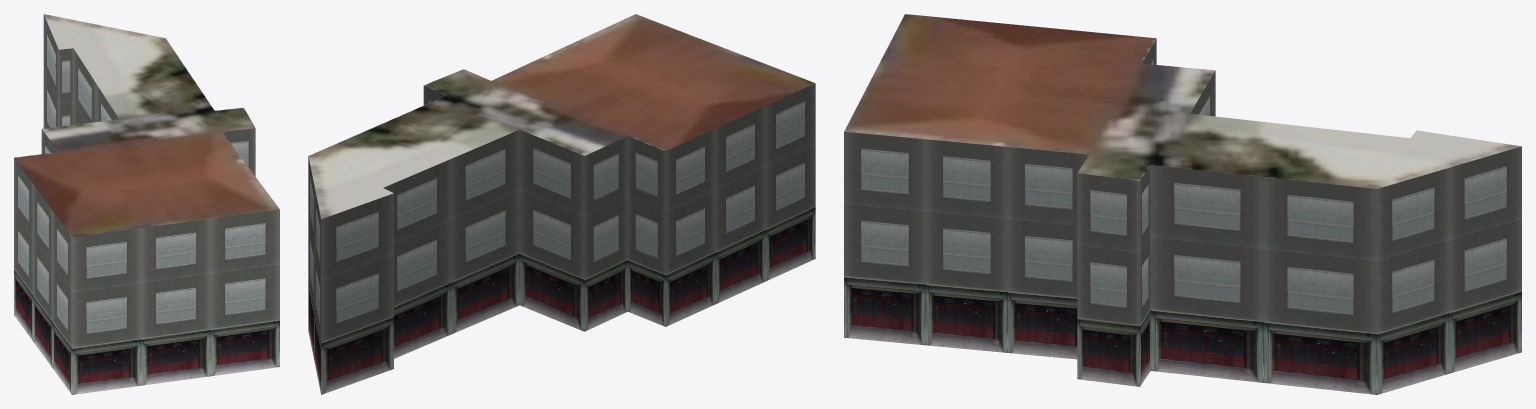
3 renders of one model, left to right at view 1: azimuth 30°, elevation 25°; view 2: azimuth 150°, elevation 25°; view 3: azimuth 270°, elevation 25°, orthographic. The views are drawn at different scales.
Visible parts, largest first — view 1: SketchUp (×10); view 2: SketchUp (×15); view 3: SketchUp (×12).
Part boxes in pixels (x1=…): SketchUp (×10): x1=14, y1=14, x2=279, y2=394; SketchUp (×15): x1=308, y1=14, x2=815, y2=394; SketchUp (×12): x1=844, y1=14, x2=1521, y2=394.
Bounding box in the file's own units: 20.03 × 32.8 × 11.
Materials: 3 (3 with a texture image).
